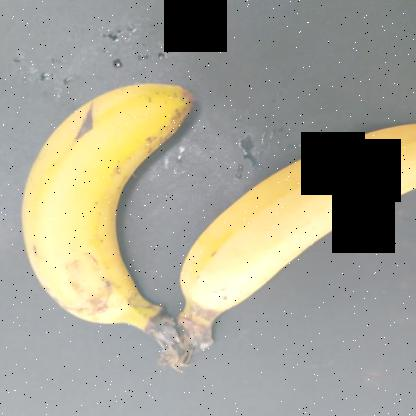freshripe: (187, 115, 416, 315)
ripe: (22, 74, 202, 329)
